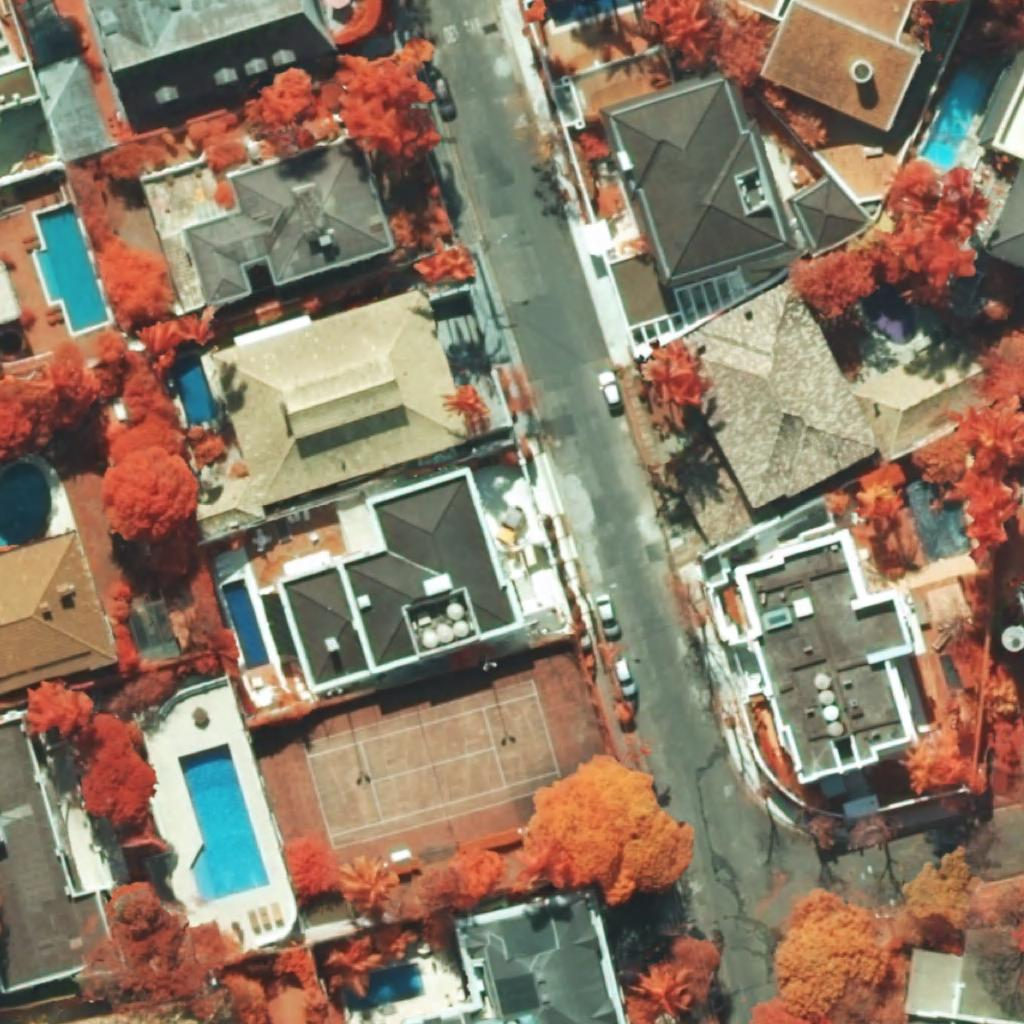pool: (177, 743, 270, 904), (36, 203, 110, 332), (920, 69, 990, 170), (222, 579, 270, 669), (0, 462, 50, 546), (345, 963, 426, 1012), (862, 285, 916, 345), (172, 354, 216, 424), (550, 0, 646, 28)
